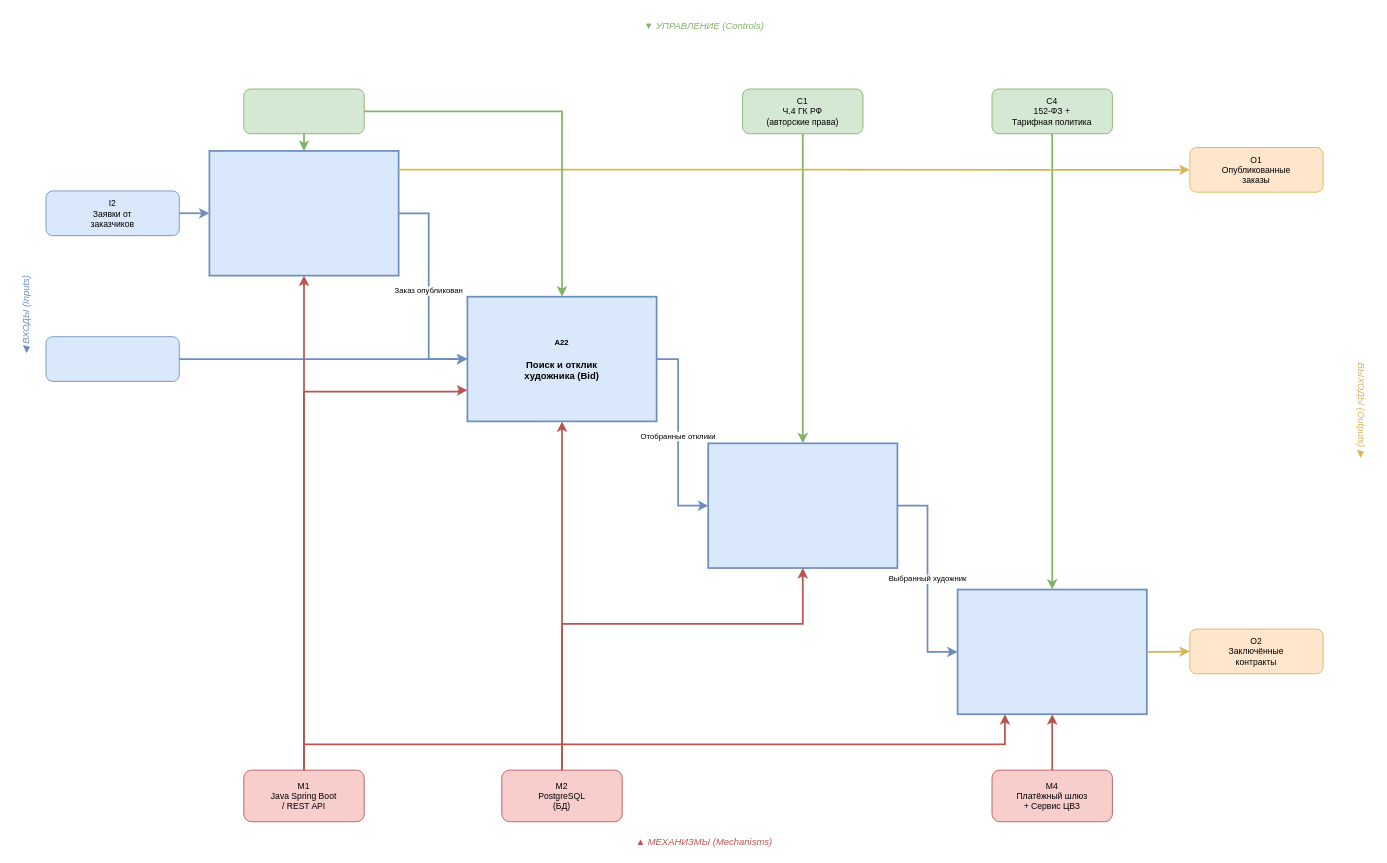
The diagram is 1387 pixels wide and 863 high, and some of its shapes have lost their labels. The shapes that lost their labels are listed below. From the top down, each one's centre as x and y in pixels, then its label:
the point at 303,111: C2 Регламент ФПЦХ
the point at 303,213: A21 Публикация заказа заказчиком
the point at 112,358: I5 Отклики художников (Bid)
the point at 802,505: A23 Модерация и выбор художника
the point at 1051,651: A24 Подписание контракта (эскроу)
